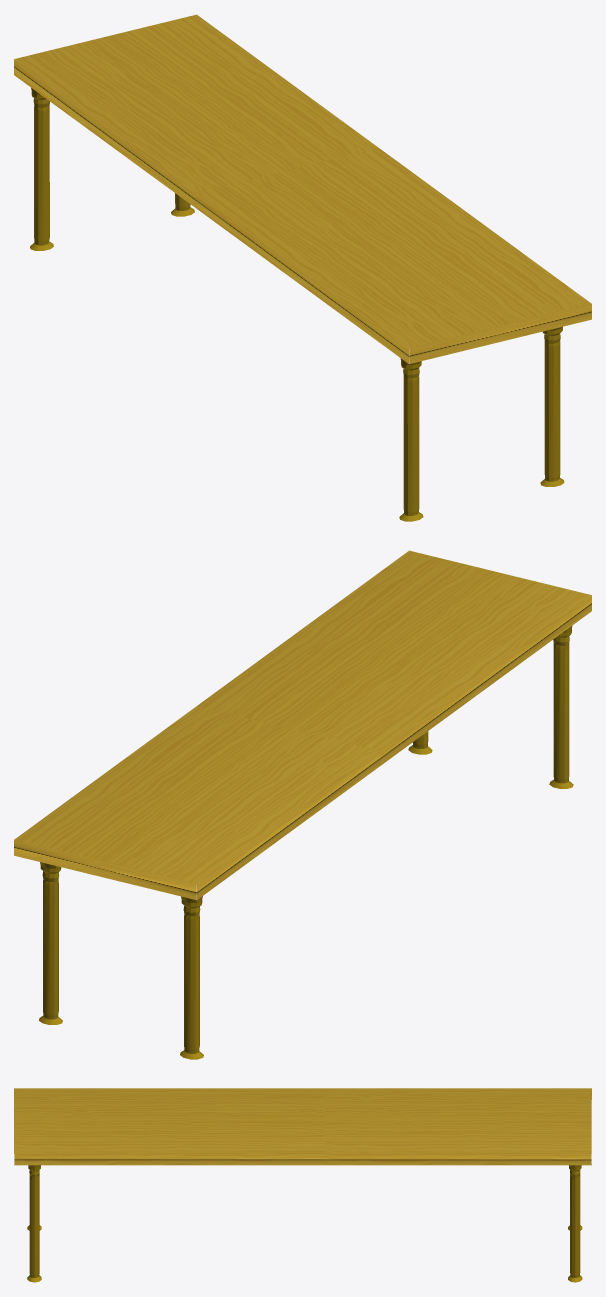
Rendered from LongTable.fbx.
3 views of the same model, one above another, from view 1: azimuth 30°, elevation 25°; view 2: azimuth 150°, elevation 25°; view 3: azimuth 270°, elevation 25° (orthographic). The views are drawn at different scales.
Visible parts, largest first — view 1: polySurface1; view 2: polySurface1; view 3: polySurface1.
Part boxes in pixels (box(x1,y1,x2,y2)): polySurface1: box(14, 14, 591, 521); polySurface1: box(14, 550, 591, 1059); polySurface1: box(14, 1088, 591, 1282).
Size of the model in its own units: 243 by 233 by 910.
